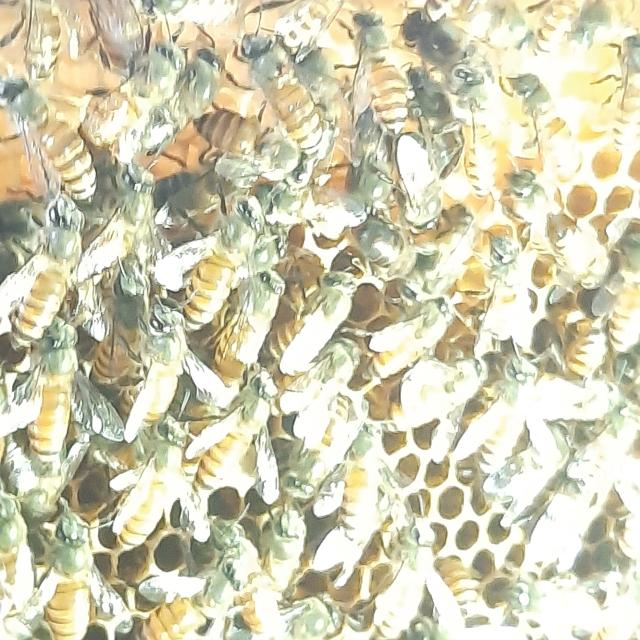honeybee: (422, 532, 506, 629), (116, 439, 200, 523), (368, 135, 443, 228), (30, 59, 94, 152), (343, 20, 408, 111), (263, 450, 331, 533), (23, 187, 67, 313), (61, 560, 129, 640), (550, 545, 607, 640), (208, 135, 296, 195), (269, 92, 339, 166), (562, 446, 640, 511), (498, 366, 567, 438), (148, 577, 230, 637), (332, 204, 402, 274), (378, 318, 479, 366), (380, 512, 439, 590), (27, 396, 90, 469), (517, 72, 573, 154), (546, 205, 612, 274), (210, 401, 275, 467), (301, 574, 365, 640), (205, 196, 251, 287), (17, 483, 88, 538), (496, 214, 534, 316), (298, 274, 362, 334), (144, 282, 187, 368), (238, 272, 280, 354), (134, 46, 170, 138), (339, 466, 372, 566), (447, 56, 515, 104), (574, 325, 616, 395), (308, 404, 369, 447), (298, 343, 368, 380), (225, 536, 267, 596), (186, 59, 227, 120), (404, 376, 441, 404)
